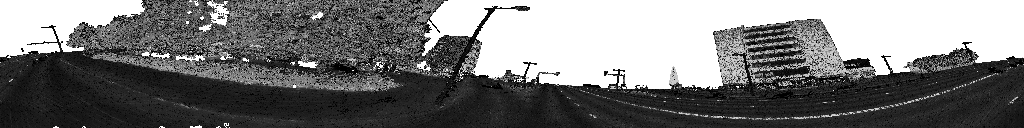gantry_sign_pole: (526, 73, 559, 89), (604, 70, 626, 93)
light_pole: (435, 7, 529, 105), (732, 54, 754, 97), (41, 26, 63, 58), (514, 63, 536, 90), (962, 43, 975, 67), (881, 56, 894, 78)
